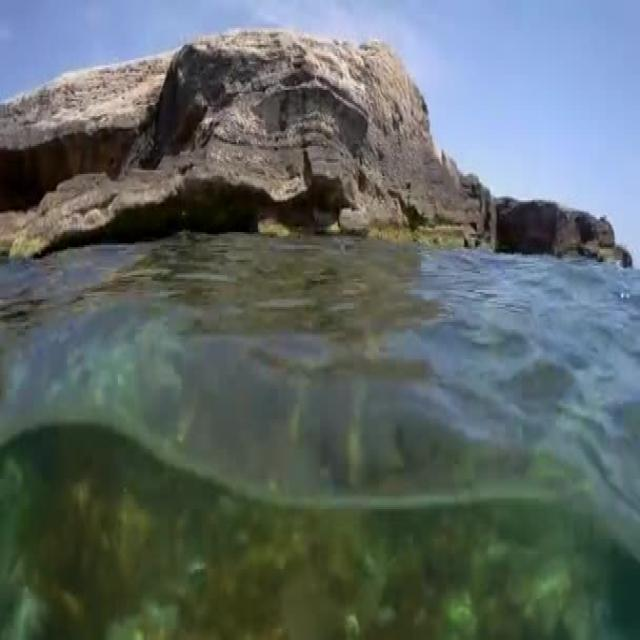reef: (38, 36, 610, 270)
